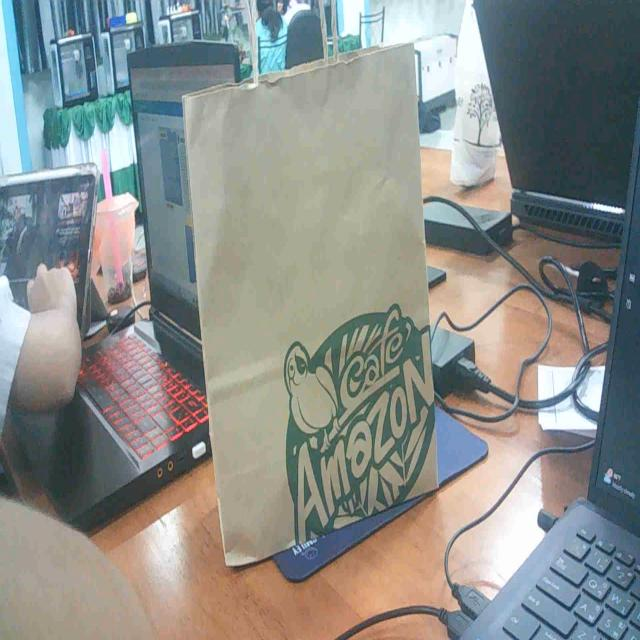bag: (177, 38, 434, 547)
